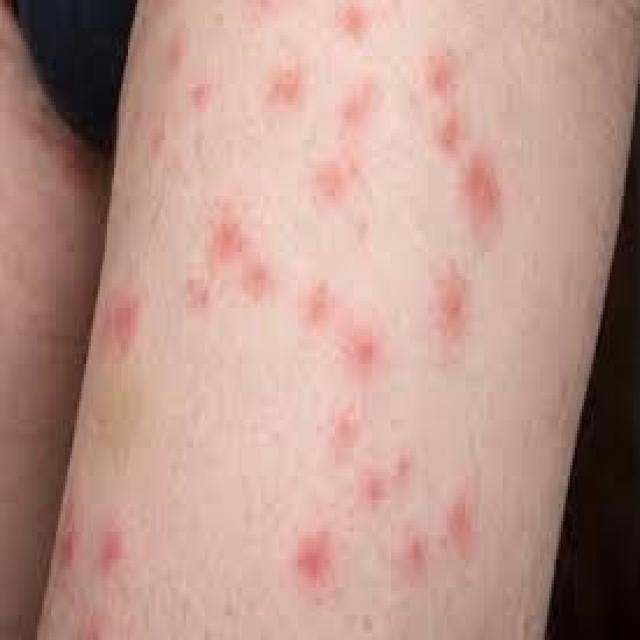kan emici bocekler: (422, 286, 495, 347), (467, 143, 504, 247), (344, 317, 396, 389), (95, 296, 148, 360), (273, 52, 319, 117), (336, 83, 381, 147), (97, 519, 139, 584), (298, 526, 337, 593), (319, 159, 355, 224), (353, 462, 390, 521), (333, 397, 367, 457), (340, 2, 377, 57), (303, 274, 332, 341), (445, 498, 477, 553), (208, 223, 242, 274), (57, 501, 78, 575), (428, 59, 453, 107), (252, 255, 272, 311), (438, 115, 460, 161), (193, 75, 216, 118), (409, 525, 422, 589)
